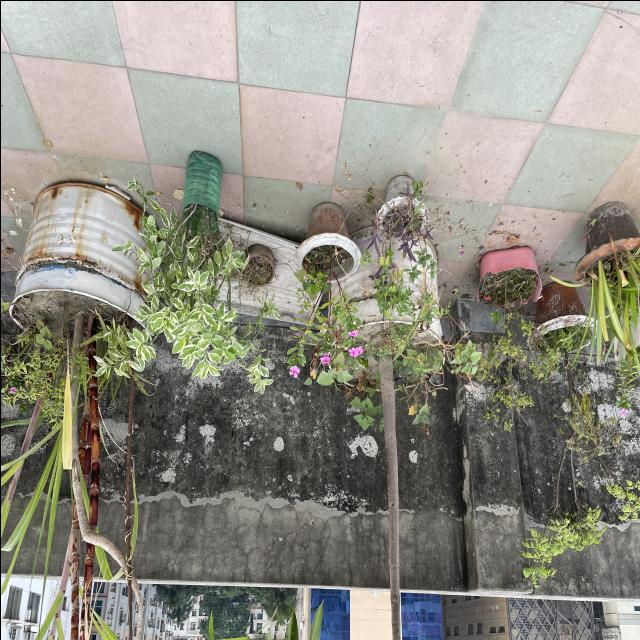Breeding Place: (11, 184, 162, 336), (332, 232, 442, 378), (574, 202, 640, 285), (298, 197, 358, 287), (532, 289, 597, 367), (373, 172, 431, 248), (174, 154, 222, 237), (484, 243, 542, 305), (237, 246, 273, 296)
